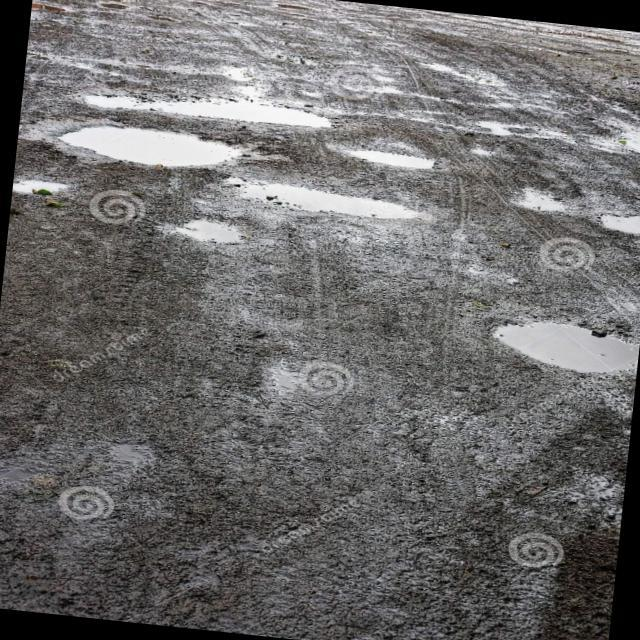Pothole: (70, 59, 348, 148), (469, 280, 640, 402), (42, 101, 260, 188), (235, 160, 439, 250), (318, 121, 468, 189), (454, 104, 592, 165), (162, 197, 264, 268), (10, 154, 95, 218), (589, 95, 640, 172), (595, 199, 640, 253)
